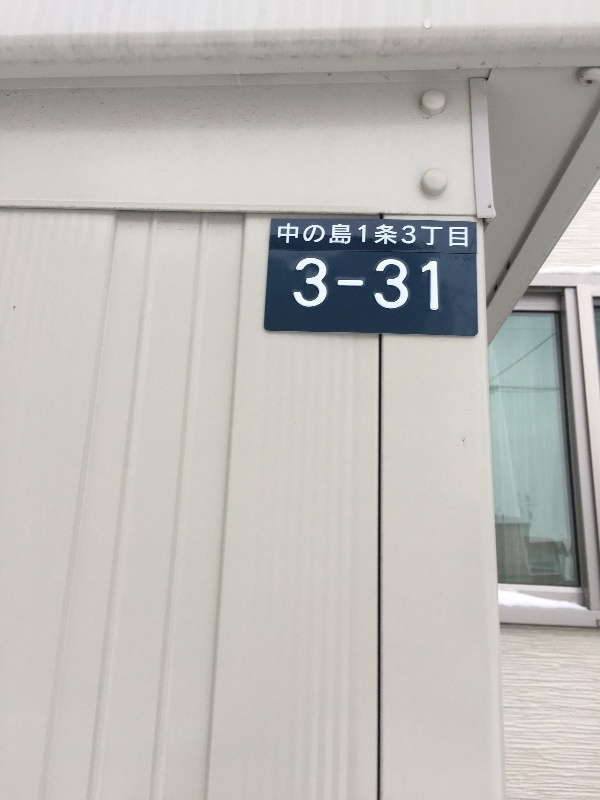text: (305, 258, 320, 313), (321, 258, 336, 313), (337, 258, 352, 313), (353, 258, 368, 313), (369, 258, 384, 313), (385, 258, 400, 313), (401, 258, 416, 313), (417, 258, 432, 313), (289, 224, 304, 252), (305, 224, 320, 252), (321, 224, 336, 252), (337, 224, 352, 252), (353, 224, 368, 252), (369, 224, 384, 252), (385, 224, 400, 252), (401, 224, 416, 252), (417, 224, 432, 252), (433, 224, 448, 252), (449, 224, 464, 252), (297, 258, 304, 313), (433, 258, 439, 313), (278, 224, 288, 252), (465, 224, 471, 252)
